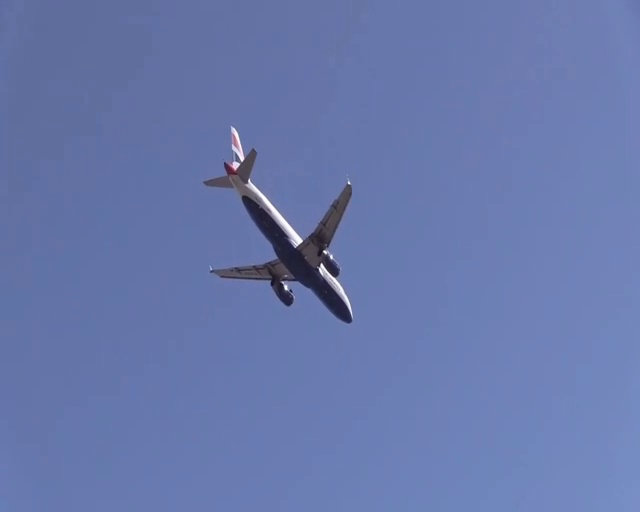AIRPLANE: (203, 126, 356, 323)
